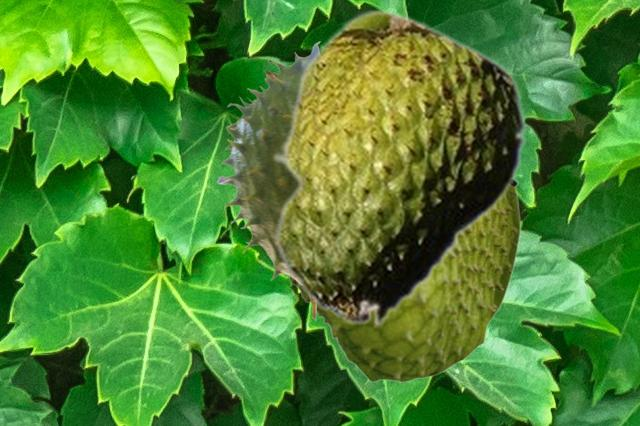guyabano: (271, 8, 527, 329), (285, 180, 520, 382), (217, 41, 321, 320)
